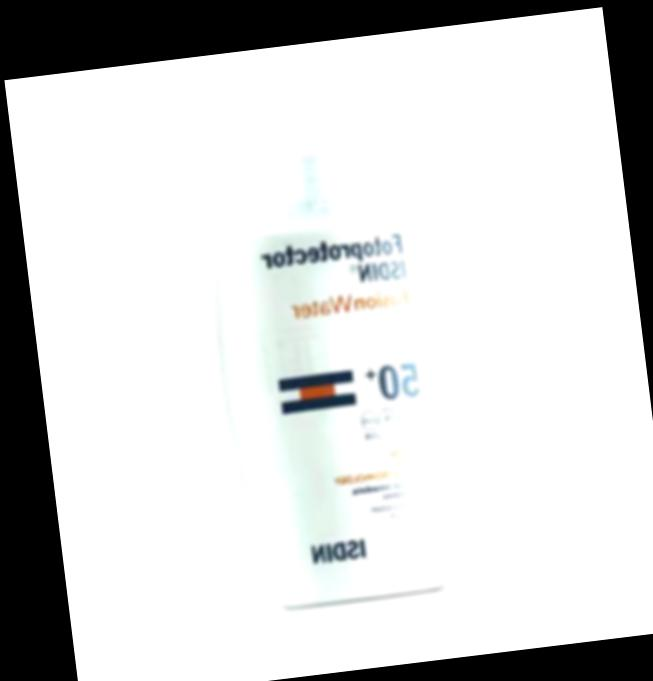cosmetic: (201, 91, 464, 615)
